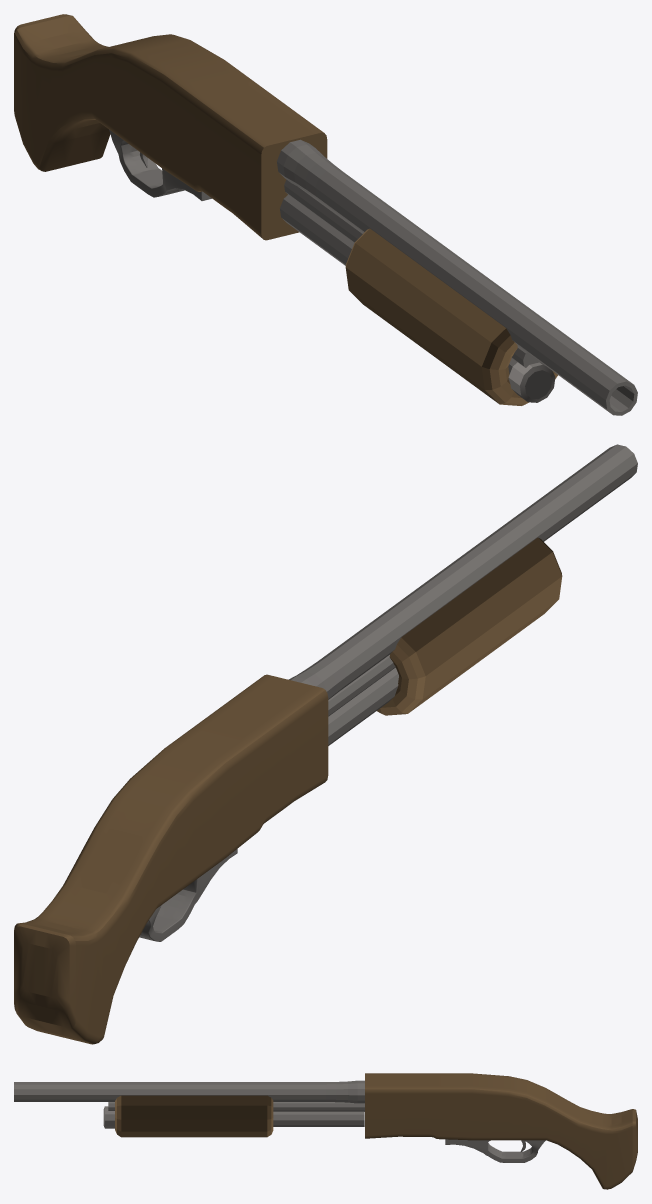
File: Sawed_Off_Shotgun_GLB.glb
3 views of the same model, one above another, from view 1: azimuth 30°, elevation 25°; view 2: azimuth 150°, elevation 25°; view 3: azimuth 270°, elevation 25° (orthographic). The views are drawn at different scales.
Parts seen in each view (by area): view 1: stock, barrel:PIV, fore_end, trigger:PIV, front_sight; view 2: stock, barrel:PIV, fore_end, trigger:PIV; view 3: stock, barrel:PIV, fore_end, trigger:PIV, front_sight.
Part boxes in pixels (bbox=[...]): stock: bbox=[14, 14, 327, 240]; barrel:PIV: bbox=[277, 139, 637, 415]; fore_end: bbox=[345, 228, 557, 405]; trigger:PIV: bbox=[109, 129, 211, 200]; front_sight: bbox=[508, 362, 555, 402]; stock: bbox=[14, 674, 328, 1044]; barrel:PIV: bbox=[289, 444, 637, 745]; fore_end: bbox=[377, 537, 562, 715]; trigger:PIV: bbox=[139, 849, 237, 941]; stock: bbox=[365, 1073, 637, 1189]; barrel:PIV: bbox=[14, 1080, 364, 1126]; fore_end: bbox=[115, 1095, 273, 1137]; trigger:PIV: bbox=[445, 1139, 545, 1162]; front_sight: bbox=[103, 1106, 114, 1128].
Size of the model in its own units: 1.08 by 2.43 by 13.54.
